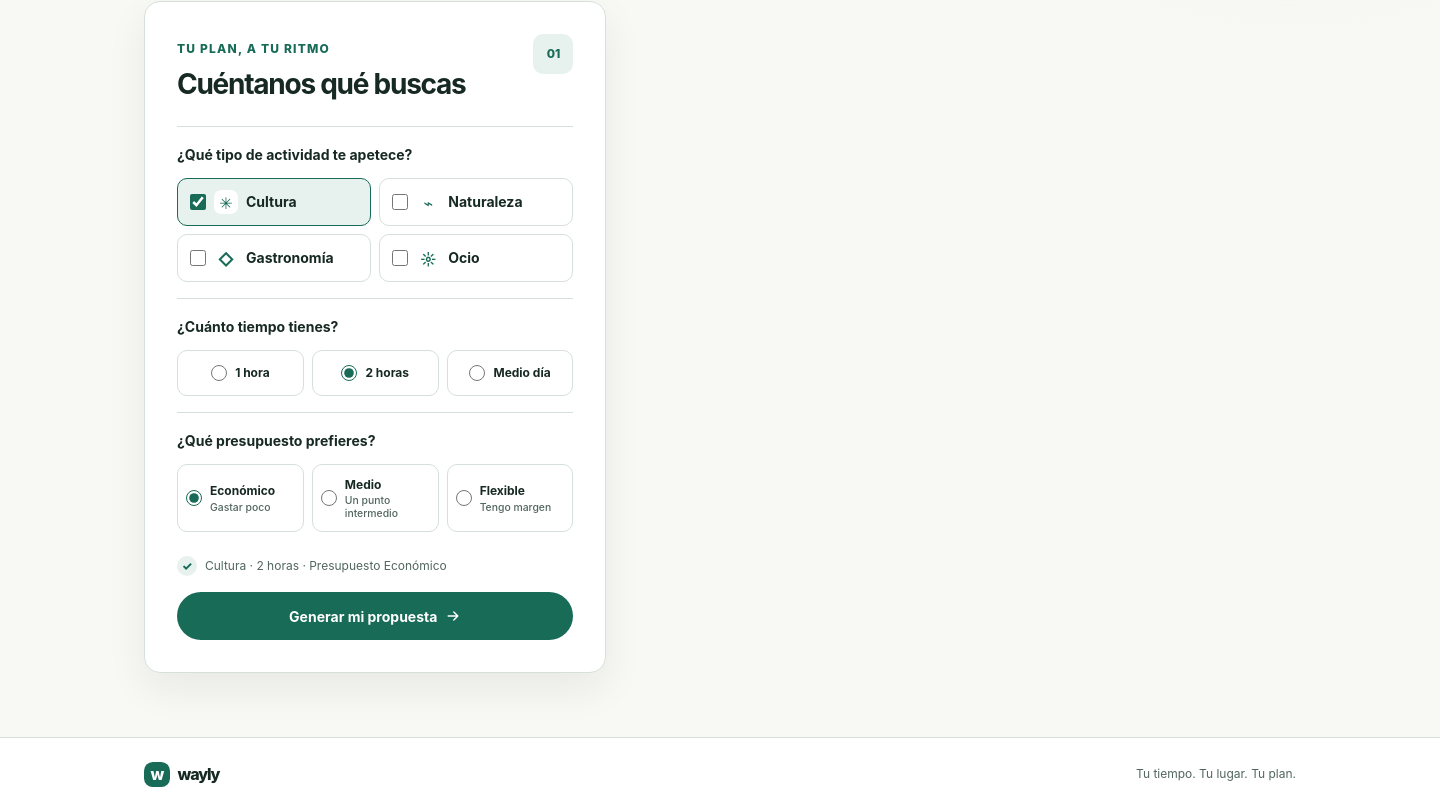
Test: DiscoverPageComponent › starts with pending preferences and generates an explained proposal on request
(page scrolled)
Check: the number of checkboxes is 4, box [190, 194, 206, 210]; [392, 194, 408, 210]; [190, 250, 206, 266]; [392, 250, 408, 266]
Check: the number of radio buttons is 6, box [211, 365, 227, 381]; [341, 365, 357, 381]; [470, 365, 486, 381]; [186, 490, 202, 506]; [321, 490, 337, 506]; [456, 490, 472, 506]
Click the button "Generar mi propuesta". click: [375, 616]
box: [177, 592, 574, 640]
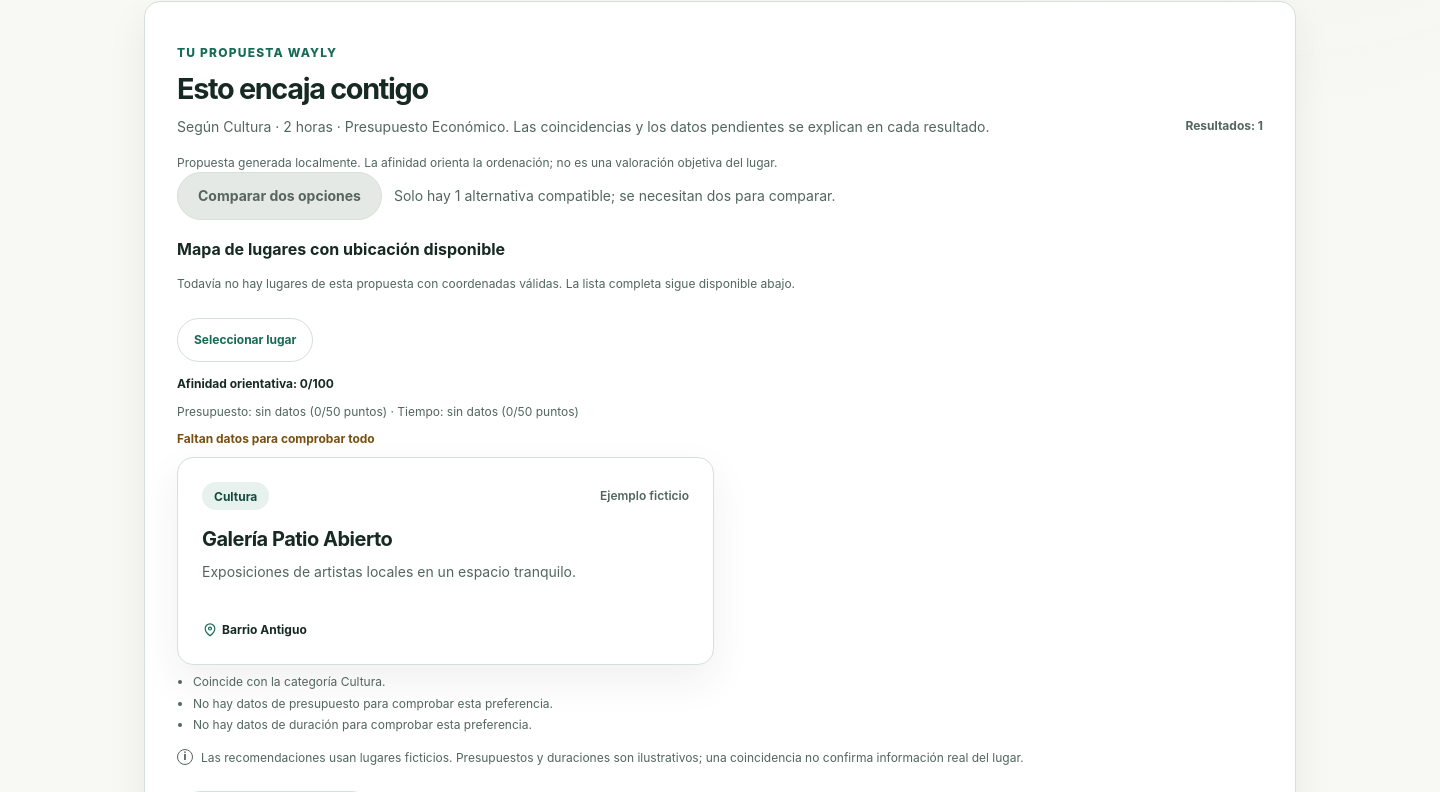
Check: the text "Galería Patio Abierto" is shown, box [202, 526, 392, 552]
Check: the text "Resultados: 1" is shown, box [1185, 116, 1263, 138]
Check: the text "Afinidad orientativa: 0/100" is shown, box [177, 376, 334, 391]
